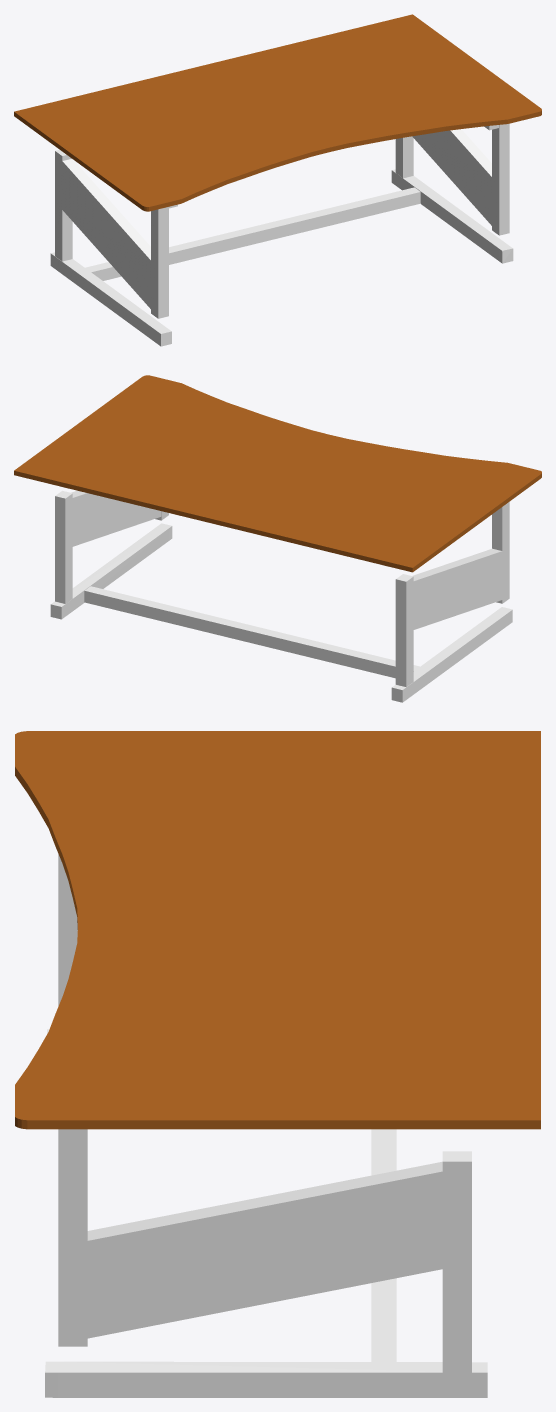
Rendered from table01.obj.
3 views of the same model, one above another, from view 1: azimuth 30°, elevation 25°; view 2: azimuth 150°, elevation 25°; view 3: azimuth 270°, elevation 25° (orthographic). The views are drawn at different scales.
Parts seen in each view (by area): view 1: table_Cube; view 2: table_Cube; view 3: table_Cube.
Part boxes in pixels (x1=…): table_Cube: x1=14, y1=14, x2=541, y2=346; table_Cube: x1=14, y1=375, x2=541, y2=702; table_Cube: x1=15, y1=731, x2=540, y2=1397.
Size of the model in its own units: 20.99 by 7.56 by 11.99.
2 materials, 2 textured.
